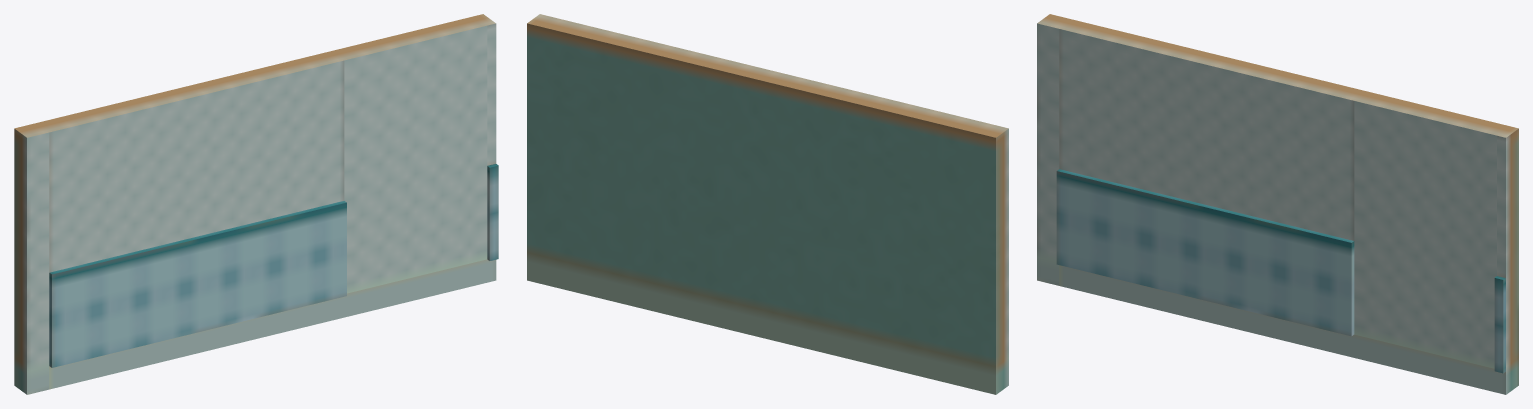
The model's file is WallGroundFloorLeftSide_A_00.obj.
3 views of the same model, side by side, from view 1: azimuth 30°, elevation 25°; view 2: azimuth 150°, elevation 25°; view 3: azimuth 330°, elevation 25° (orthographic).
Parts seen in each view (by area): view 1: WallGroundFloorLeftSide_A_00; view 2: WallGroundFloorLeftSide_A_00; view 3: WallGroundFloorLeftSide_A_00.
Boxes of the visible parts, left/top/right/bottom form: WallGroundFloorLeftSide_A_00: left=14, top=14, right=498, bottom=394; WallGroundFloorLeftSide_A_00: left=527, top=14, right=1008, bottom=394; WallGroundFloorLeftSide_A_00: left=1037, top=14, right=1518, bottom=394.
Size of the model in its own units: 5.25 by 2.75 by 0.3.
